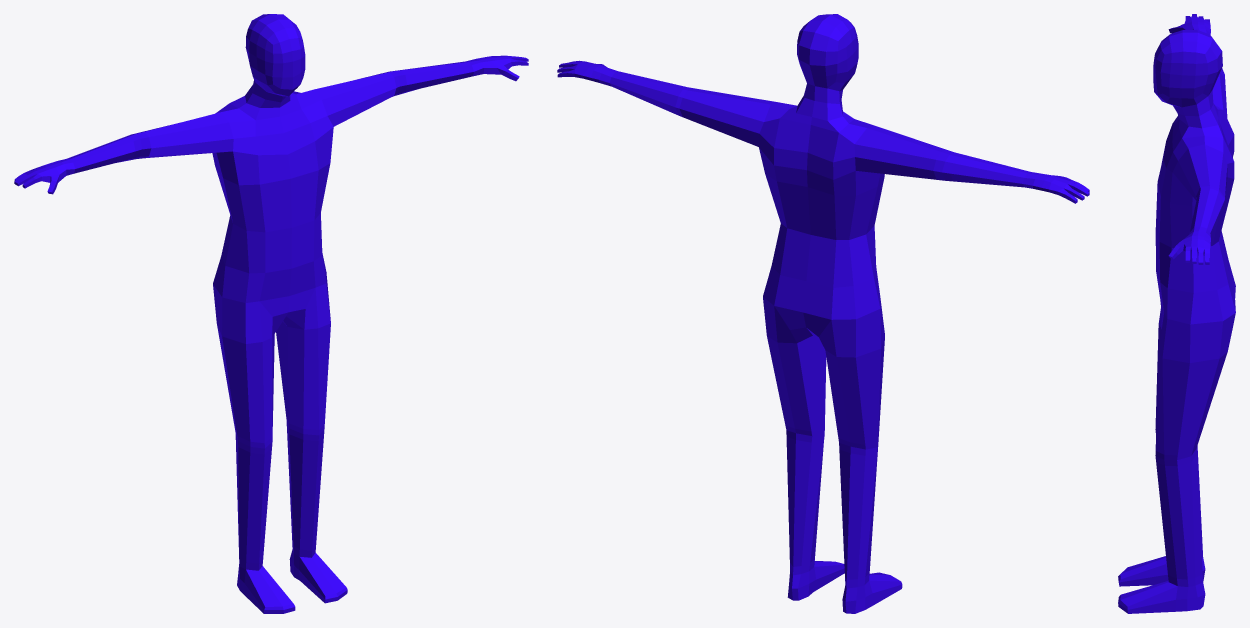
The model's file is Boss.fbx.
3 renders of one model, left to right at view 1: azimuth 30°, elevation 25°; view 2: azimuth 150°, elevation 25°; view 3: azimuth 270°, elevation 25°, orthographic. The views are drawn at different scales.
Visible parts, largest first — view 1: BaseHuman; view 2: BaseHuman; view 3: BaseHuman.
Boxes of the visible parts, <box> form: BaseHuman: <box>14,14,528,613</box>; BaseHuman: <box>557,14,1089,613</box>; BaseHuman: <box>1118,14,1235,613</box>.
Size of the model in its own units: 188 by 199 by 37.88.
